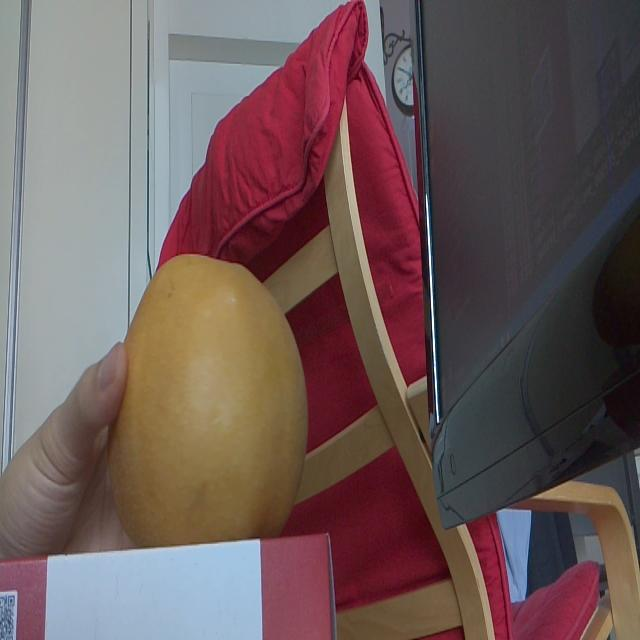pear: (107, 253, 306, 534)
